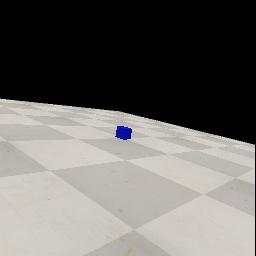box: (115, 126, 132, 140)
